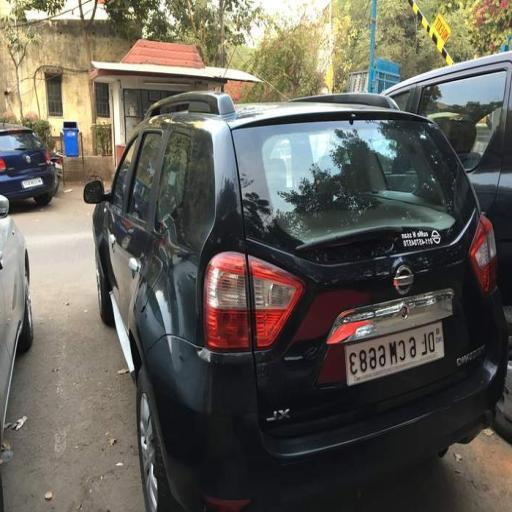License: (333, 315, 453, 391)
